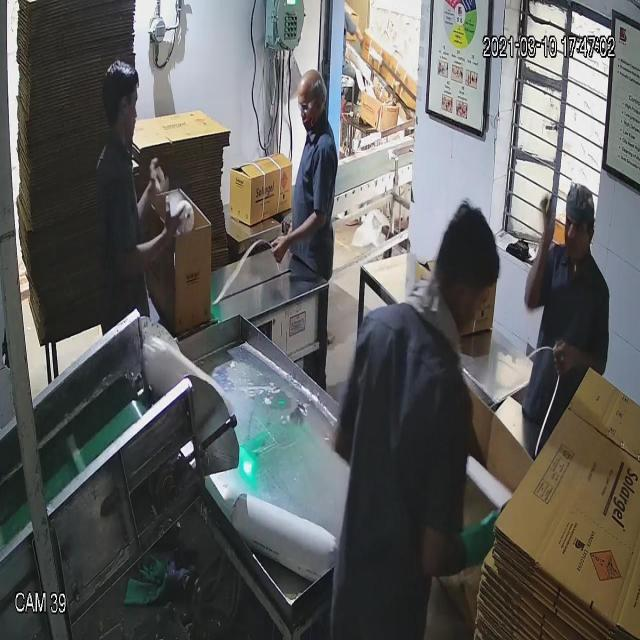No_Gloves: (36, 65, 576, 357)
